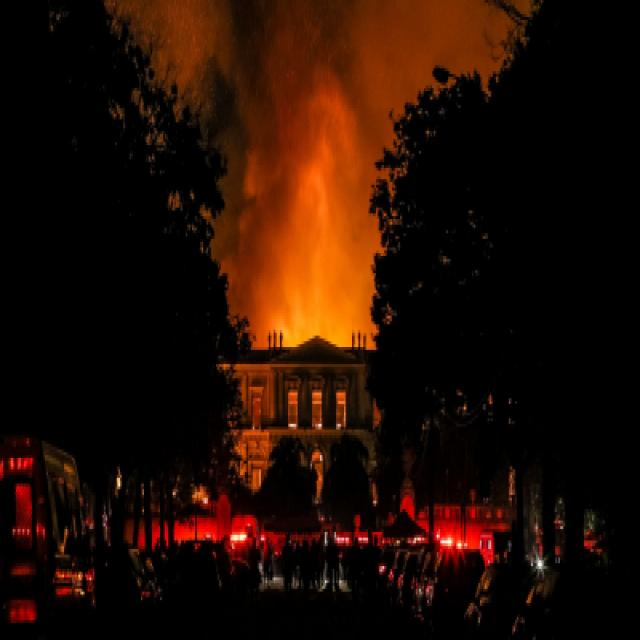Fire: (234, 97, 379, 353)
